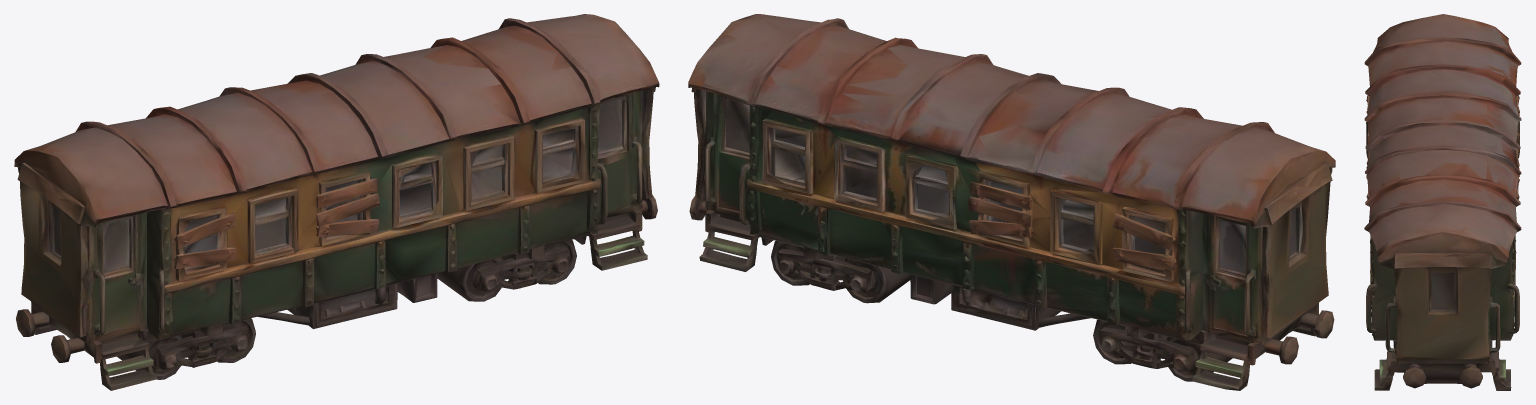
The model's file is train_coach_e_idle.glb.
The picture shows the model from 3 angles, left to right: view 1: azimuth 30°, elevation 25°; view 2: azimuth 150°, elevation 25°; view 3: azimuth 270°, elevation 25°; orthographic projection. The views are drawn at different scales.
Visible parts, largest first — view 1: tripo_node_89861608-ef7b-4d92-a6f9-2f1d24f7b9fb; view 2: tripo_node_89861608-ef7b-4d92-a6f9-2f1d24f7b9fb; view 3: tripo_node_89861608-ef7b-4d92-a6f9-2f1d24f7b9fb.
Part boxes in pixels (left/top/right/bottom): tripo_node_89861608-ef7b-4d92-a6f9-2f1d24f7b9fb: left=14, top=14, right=659, bottom=390; tripo_node_89861608-ef7b-4d92-a6f9-2f1d24f7b9fb: left=688, top=14, right=1335, bottom=390; tripo_node_89861608-ef7b-4d92-a6f9-2f1d24f7b9fb: left=1364, top=14, right=1521, bottom=390.
Size of the model in its own units: 8 by 2.94 by 2.26.
1 material, 1 textured.
